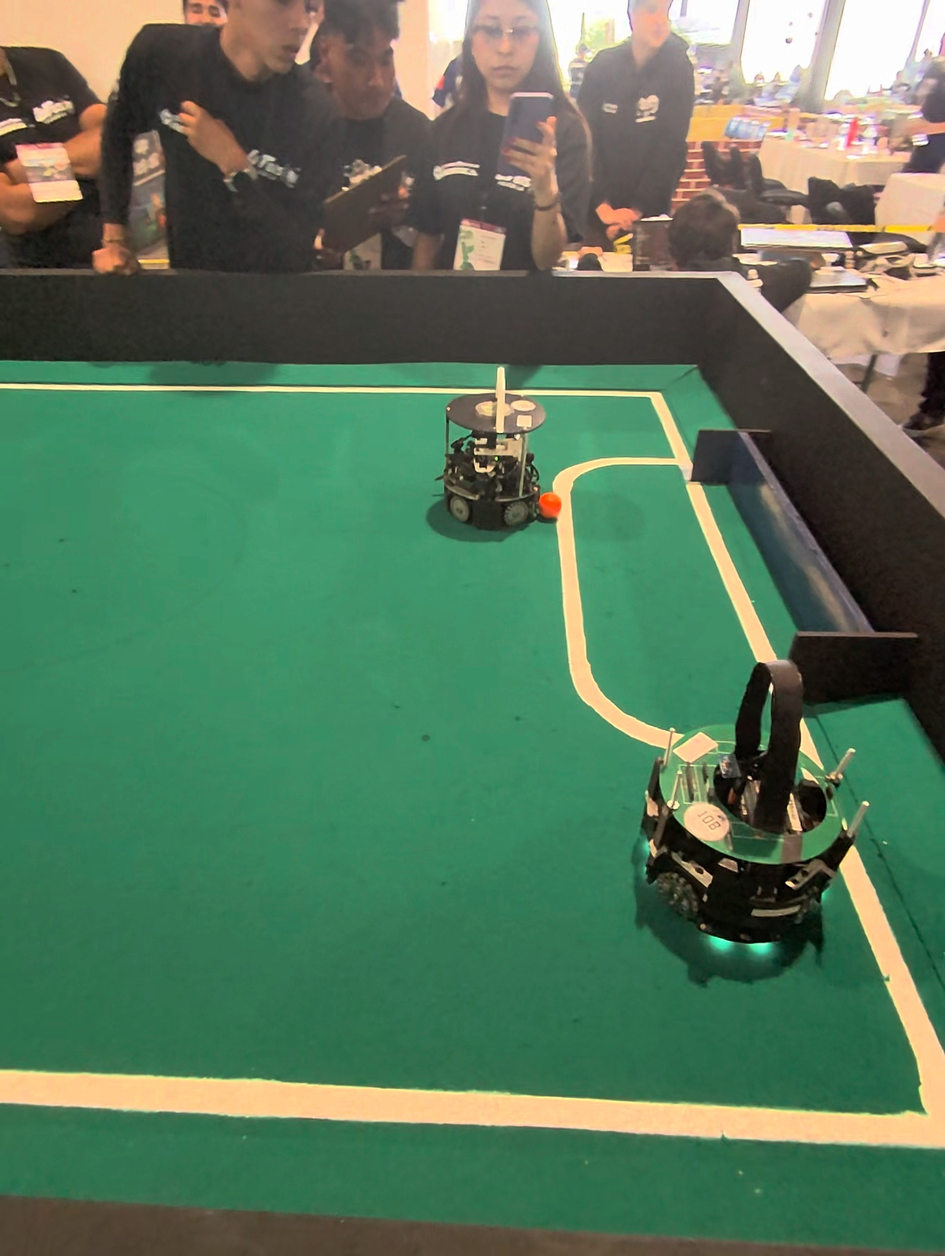Robot: (617, 657, 891, 1008), (430, 384, 563, 546)
pelota: (536, 484, 579, 540)
